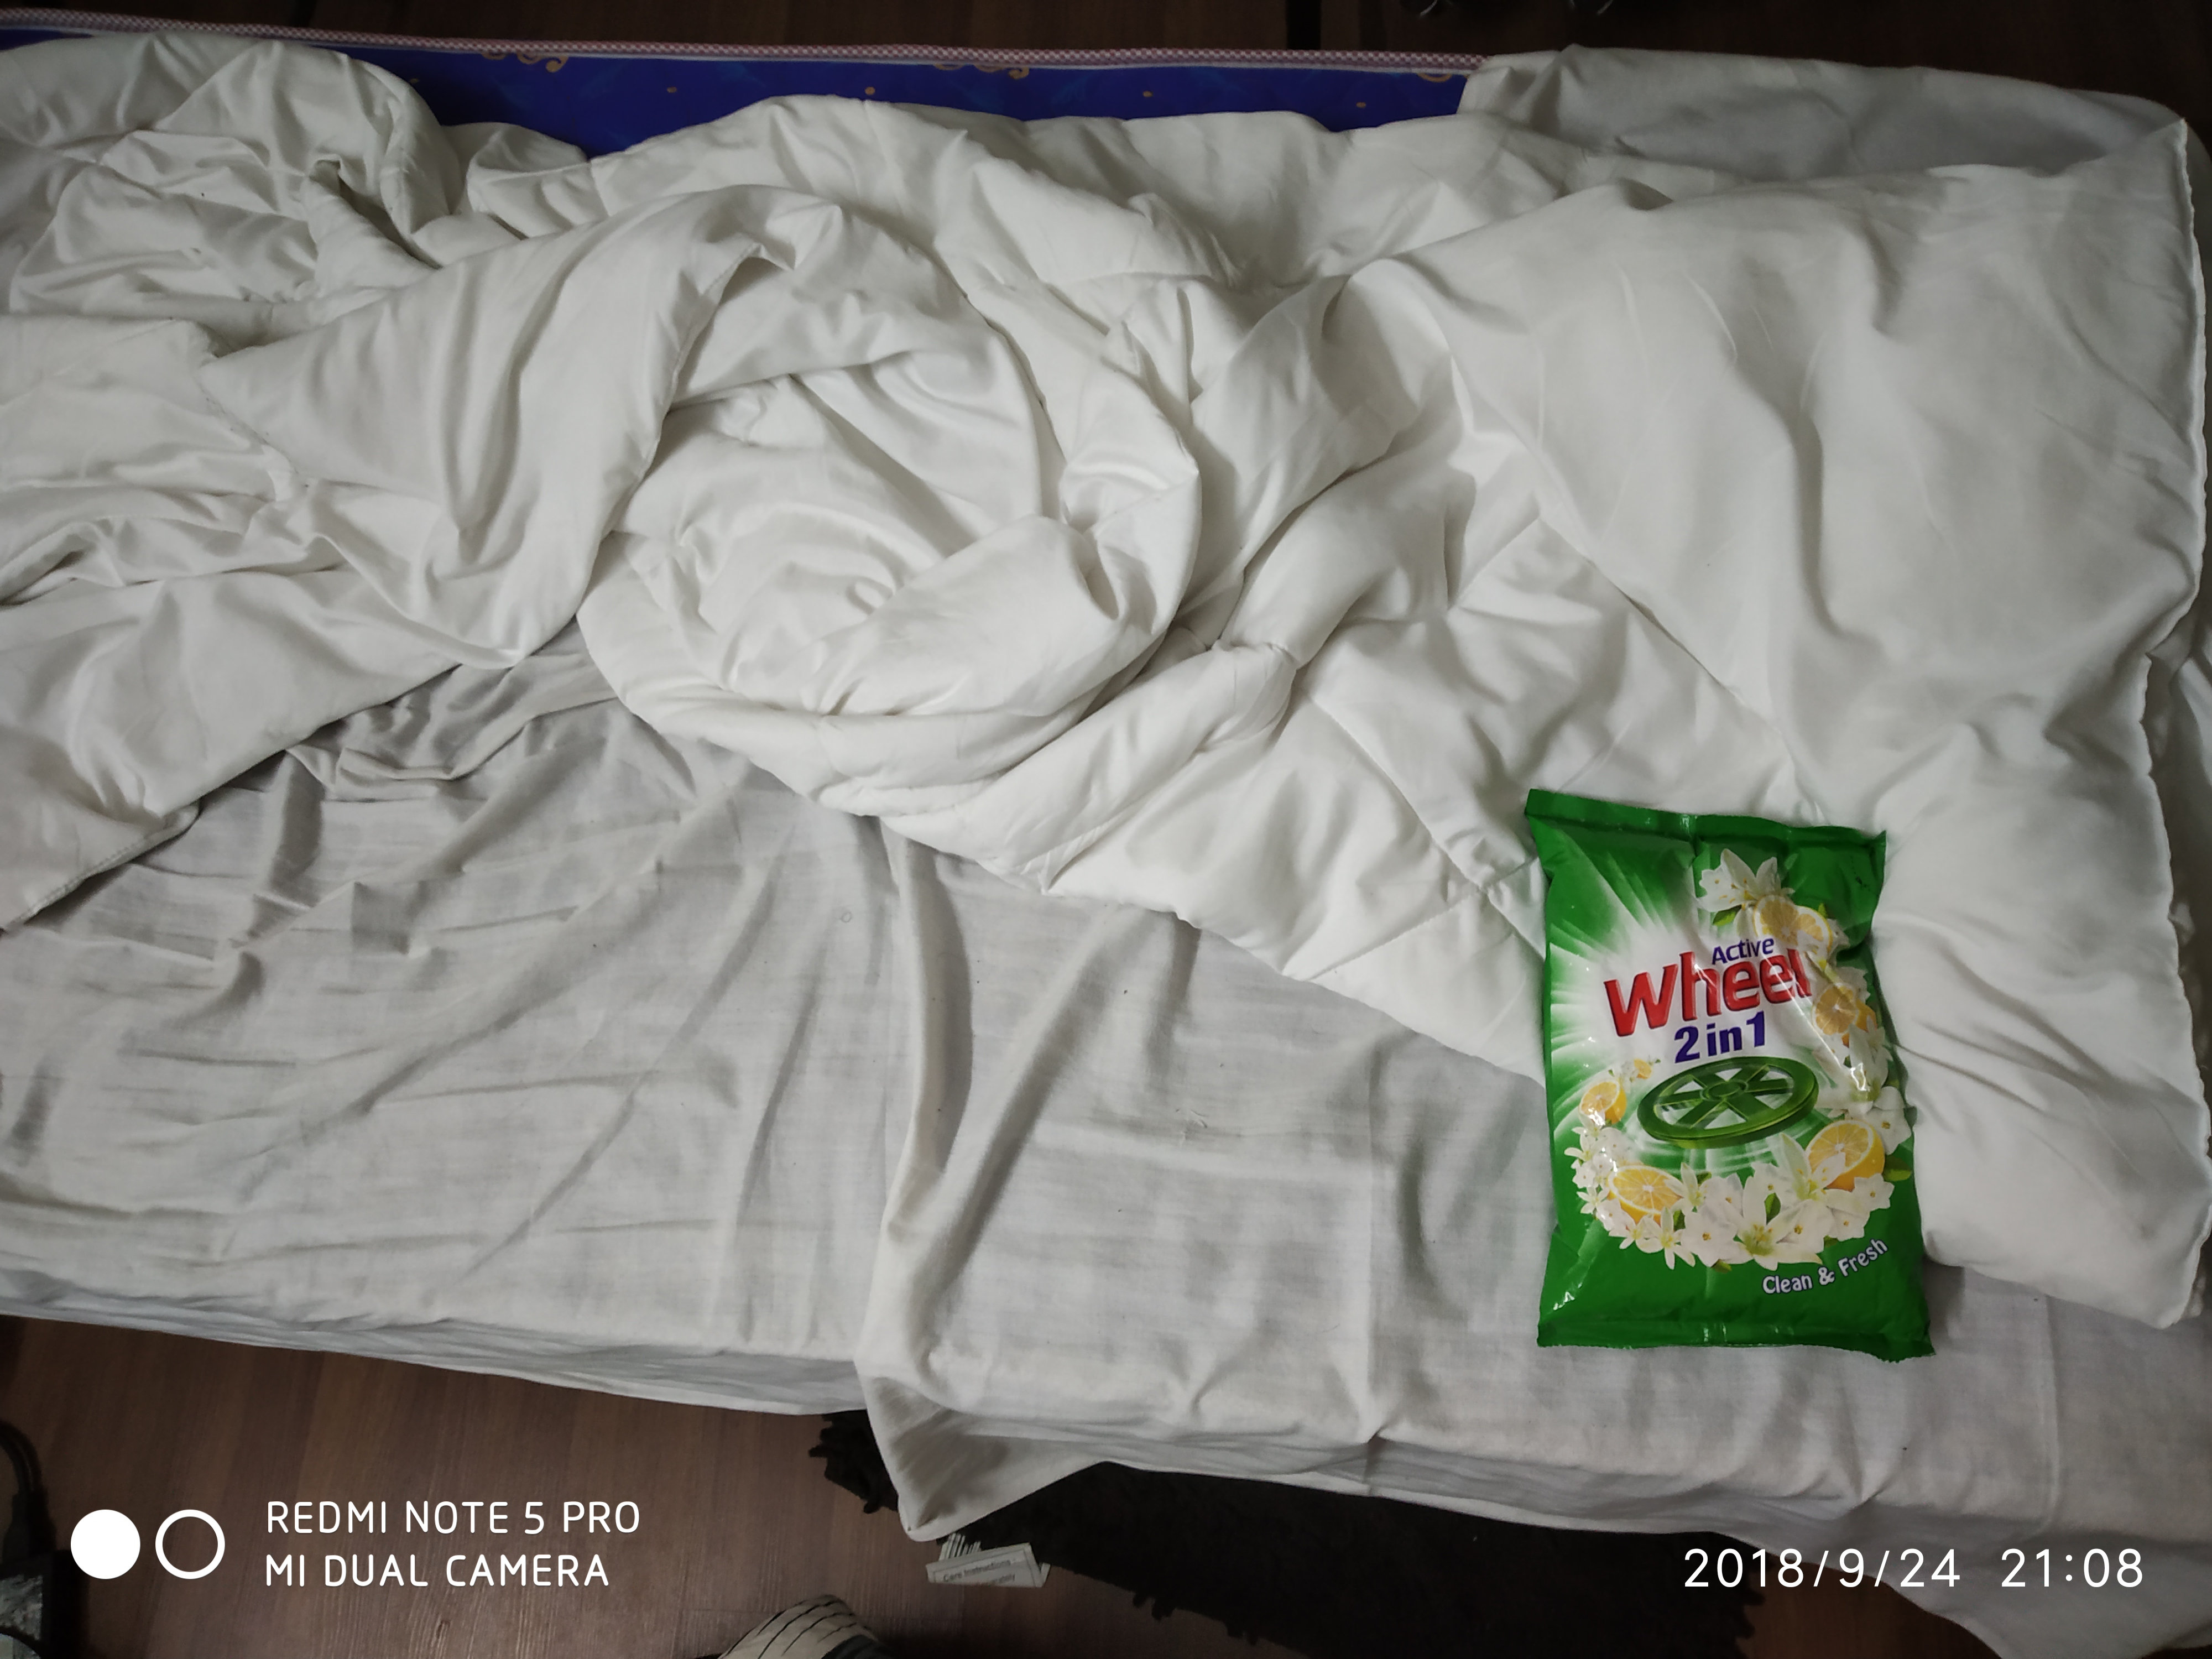detergent: (1517, 776, 1944, 1380)
